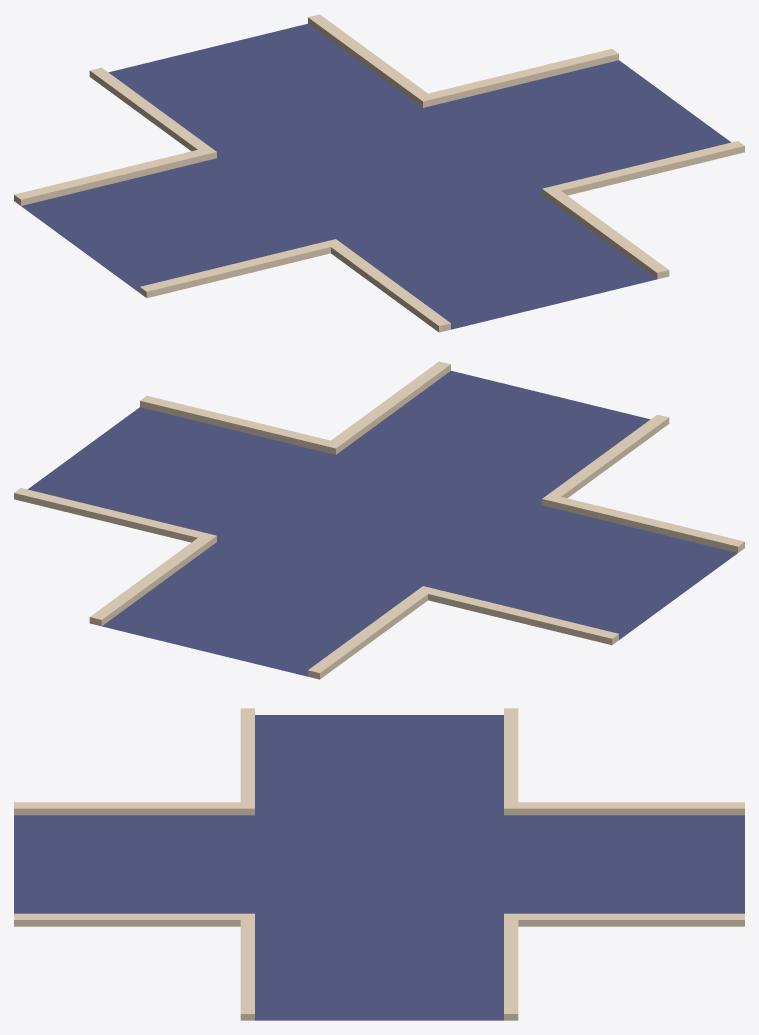
File: Way_Mid_4.fbx
3 views of the same model, one above another, from view 1: azimuth 30°, elevation 25°; view 2: azimuth 150°, elevation 25°; view 3: azimuth 270°, elevation 25° (orthographic). The views are drawn at different scales.
Visible parts, largest first — view 1: Way_Mid_4; view 2: Way_Mid_4; view 3: Way_Mid_4.
Boxes of the visible parts, left/top/right/bottom form: Way_Mid_4: left=14, top=14, right=744, bottom=332; Way_Mid_4: left=14, top=361, right=744, bottom=679; Way_Mid_4: left=14, top=708, right=744, bottom=1020.
Bounding box in the file's own units: 1500 × 15.4 × 1517.
